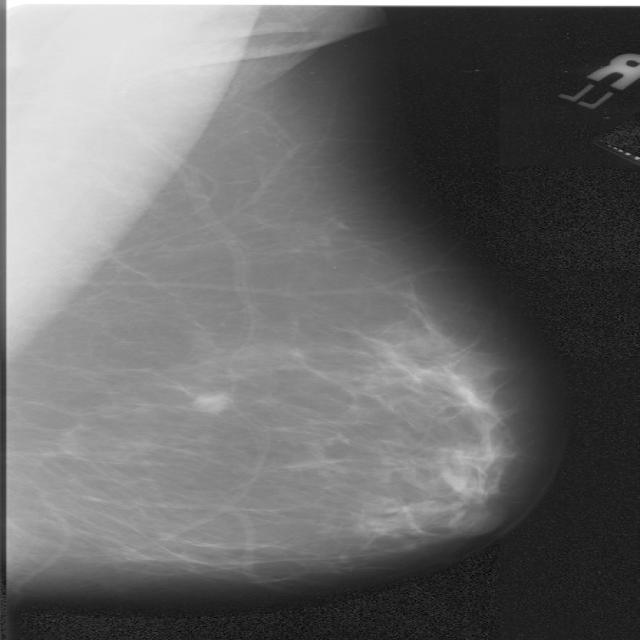tumour: (191, 389, 235, 413)
